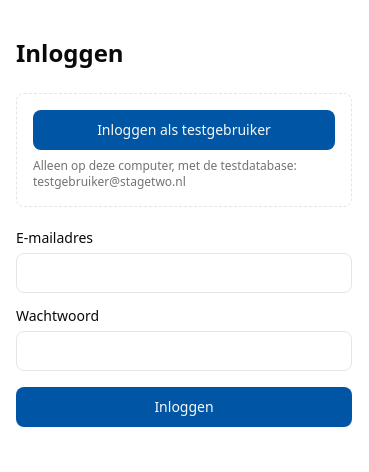
LoginPage met een testlogin (alleen lokaal) › zegt wat te doen als het wachtwoord niet meer klopt
Click the button "Inloggen als testgebruiker" at (184,130), box left=33, top=110, right=335, bottom=150
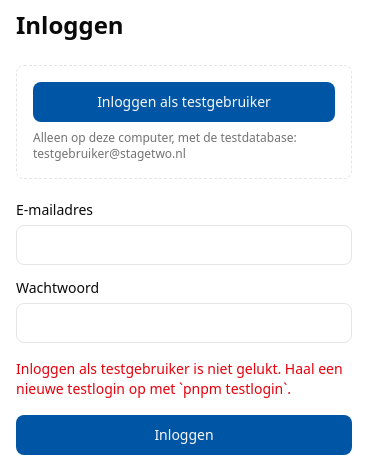
Result: the message shows "pnpm testlogin" at left=16, top=359, right=343, bottom=398
